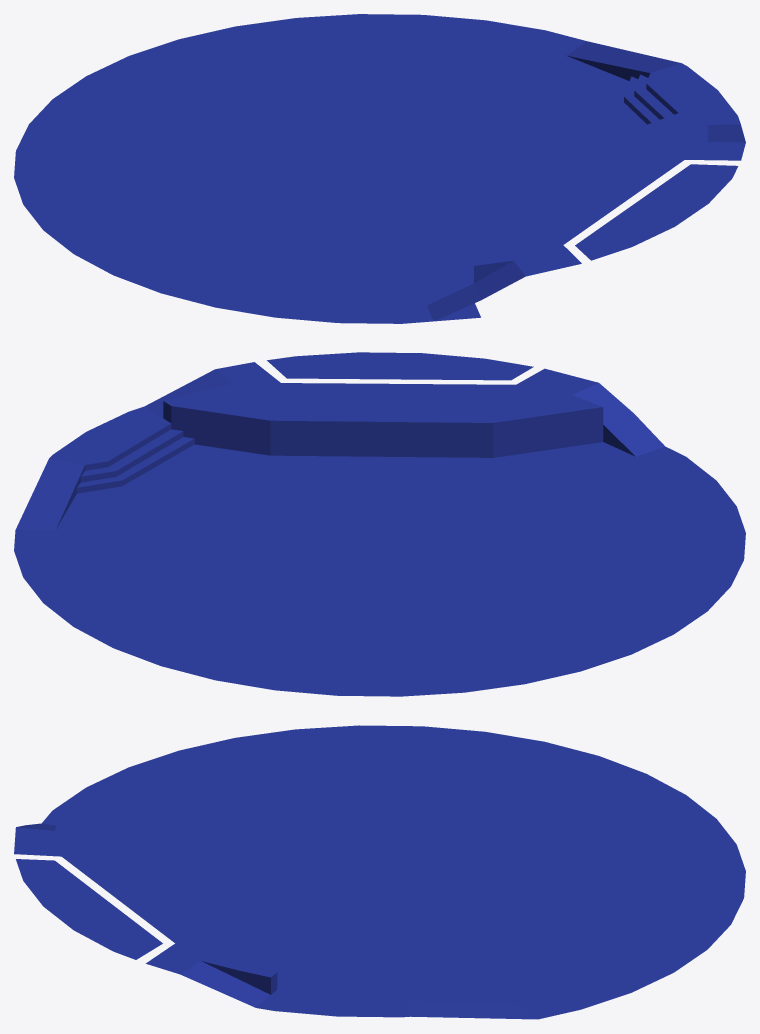
File: ground.fbx
The picture shows the model from 3 angles, top to bottom: view 1: azimuth 30°, elevation 25°; view 2: azimuth 150°, elevation 25°; view 3: azimuth 270°, elevation 25°; orthographic projection.
Parts seen in each view (by area): view 1: zemin; view 2: zemin; view 3: zemin.
Boxes of the visible parts, x1,y1,x2,y2 form: zemin: (14, 14, 745, 323); zemin: (14, 352, 745, 696); zemin: (14, 725, 745, 1019).
Bounding box in the file's own units: 190 × 10 × 190.
